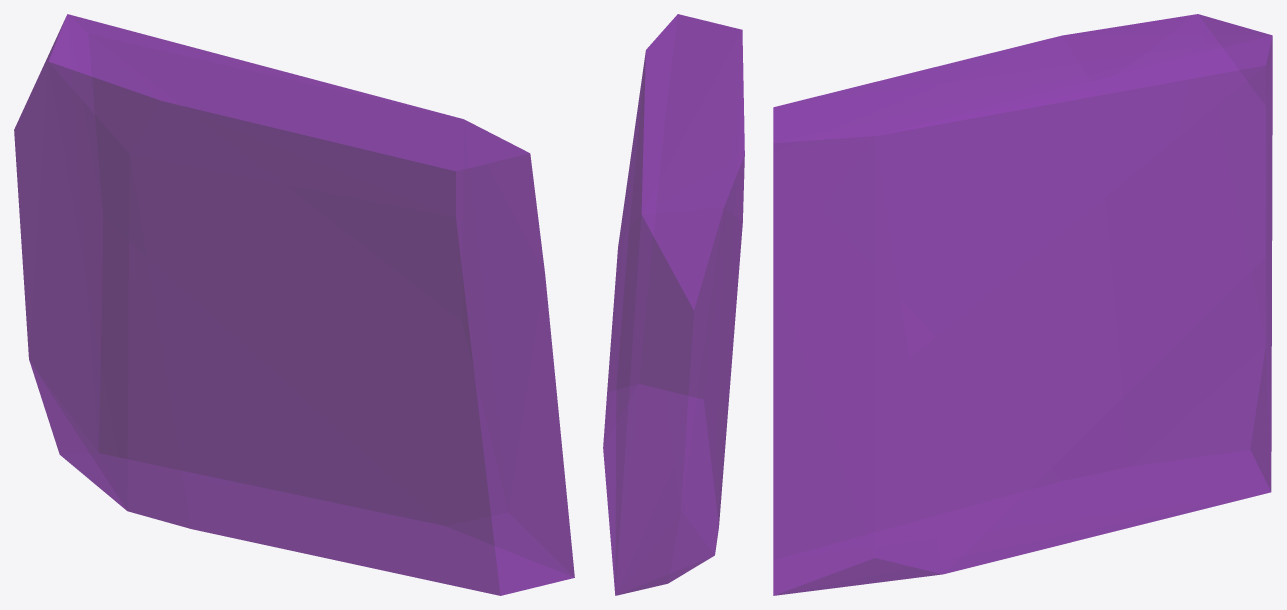
3 renders of one model, left to right at view 1: azimuth 30°, elevation 25°; view 2: azimuth 150°, elevation 25°; view 3: azimuth 270°, elevation 25°, orthographic. The views are drawn at different scales.
Parts seen in each view (by area): view 1: Shape_IndexedFaceSet.036_Shape_IndexedFaceSet.4855; view 2: Shape_IndexedFaceSet.036_Shape_IndexedFaceSet.4855; view 3: Shape_IndexedFaceSet.036_Shape_IndexedFaceSet.4855.
Boxes of the visible parts, <box> form: Shape_IndexedFaceSet.036_Shape_IndexedFaceSet.4855: <box>14,14,574,595</box>; Shape_IndexedFaceSet.036_Shape_IndexedFaceSet.4855: <box>603,14,744,595</box>; Shape_IndexedFaceSet.036_Shape_IndexedFaceSet.4855: <box>773,14,1272,595</box>.
Size of the model in its own units: 0.1917 by 0.2619 by 0.2684.
